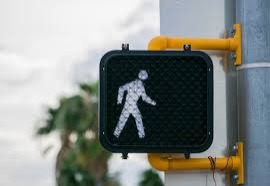pedestrian_walk: (99, 51, 215, 153)
